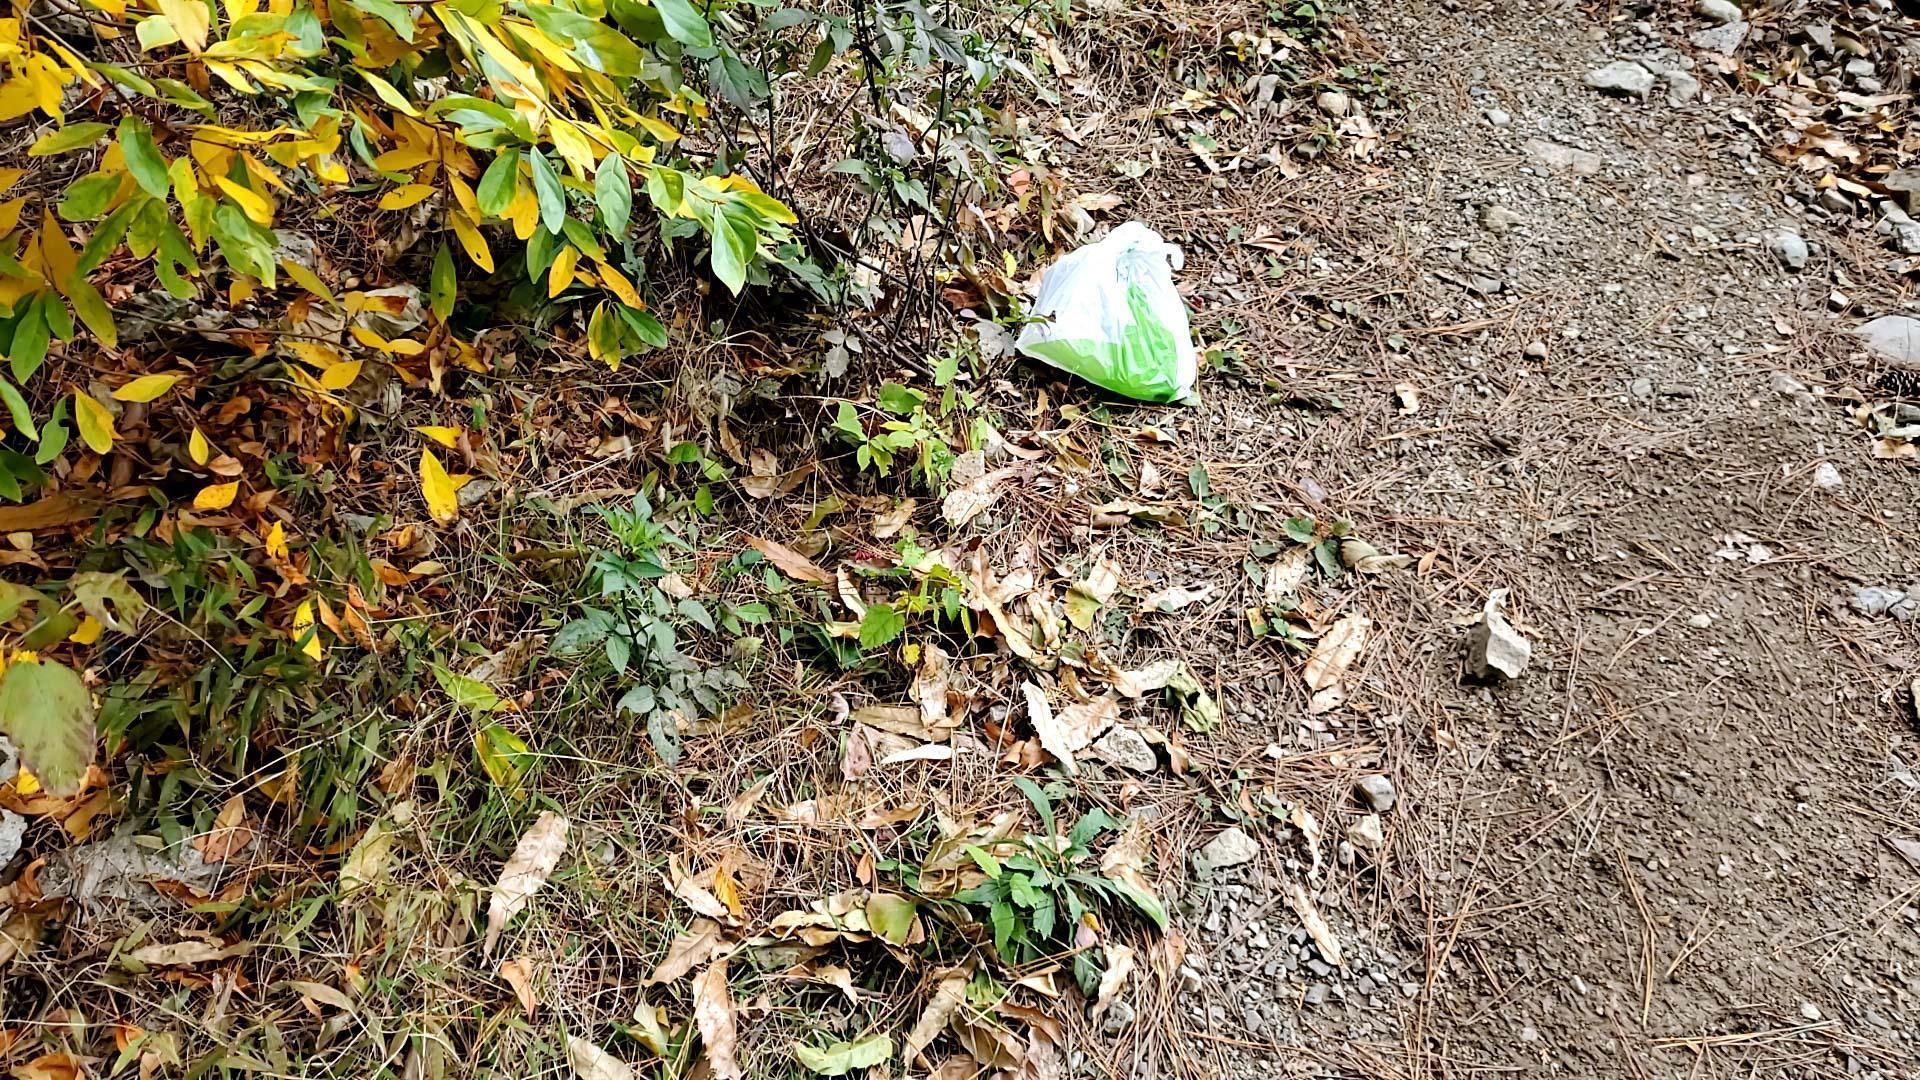white_bag: (997, 214, 1216, 414)
